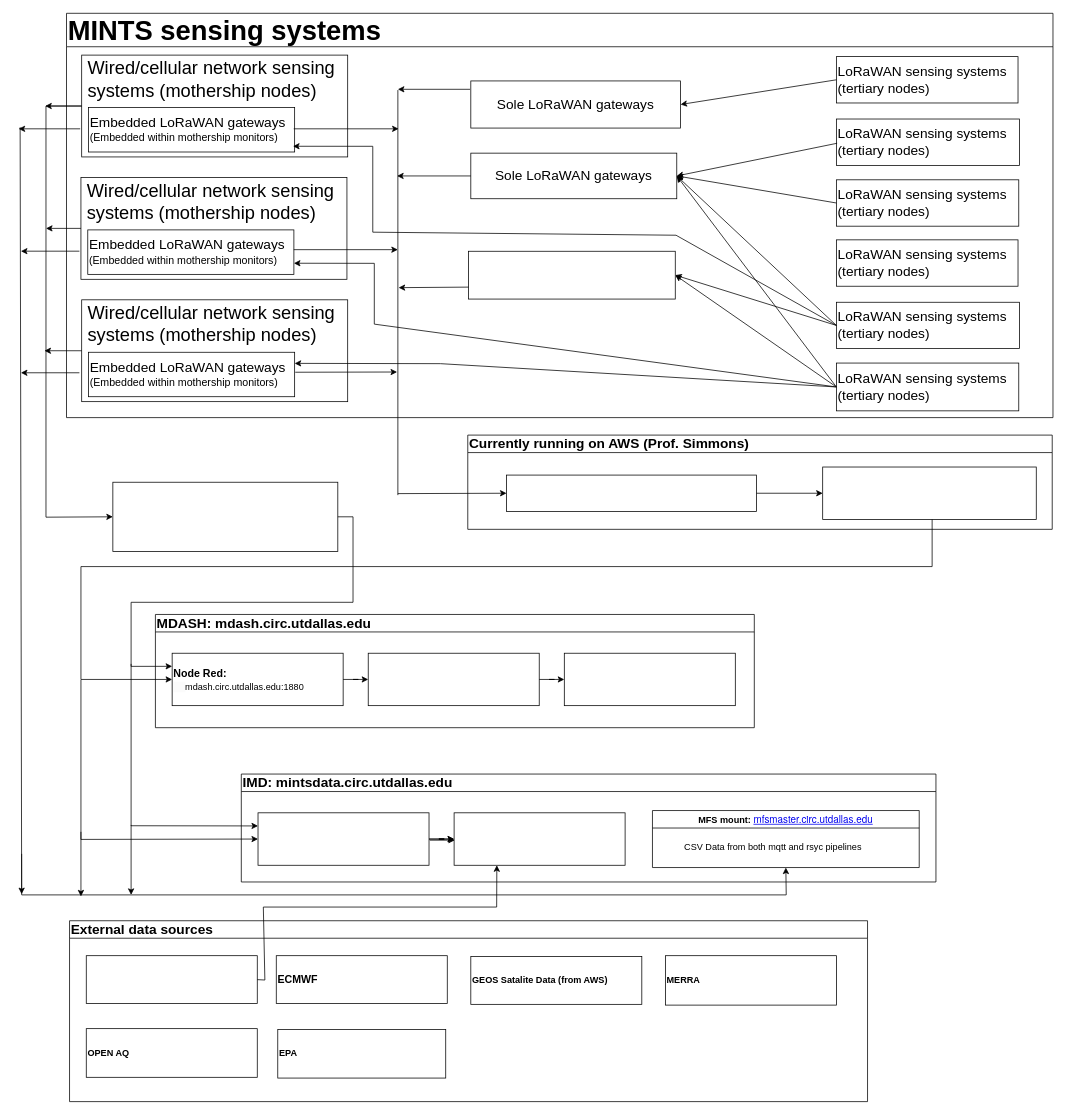
The diagram is 1066 pixels wide and 1115 high, and some of its shapes have lost their labels. Each missing label, with the centre of its shape:
"Grafana: mdash.circ.utdallas.edu:3000" goes at point 649,679.
"InFlux DB: mdash.circ.utdallas.edu:8086" goes at point 453,679.
"LoRaWAN Network Server running chirpstack" goes at point 631,492.
"MQTT Broker for LoRaWAN mqtt.lora.trecis.cloud" goes at point 929,492.
"MQTT Broker for Wired/Cellular Systems mqtt.circ.utdallas.edu/" goes at point 225,516.
"NOAAH" goes at point 171,979.
"Node.js running sharedairdfw.com" goes at point 539,838.
"POSTGREYSQL DB:" goes at point 343,838.
"Sole LoRaWAN gateways Eg: Located at the roof top of NSERL" goes at point 571,274.
